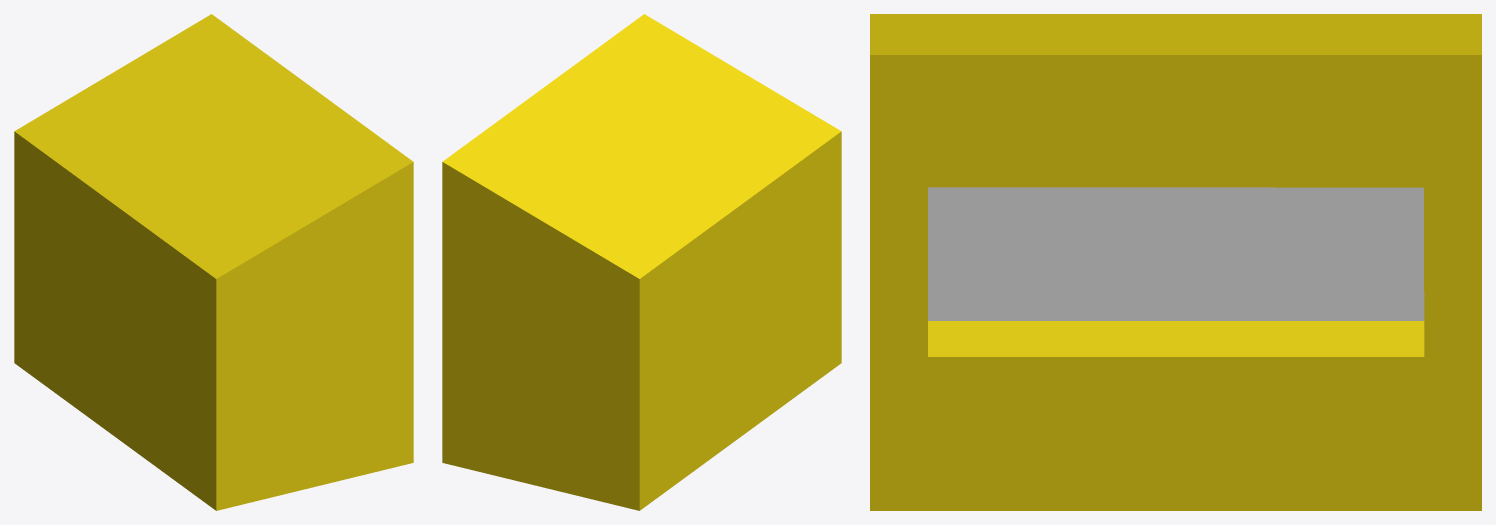
File: stall02_s03.FBX
3 views of the same model, side by side, from view 1: azimuth 30°, elevation 25°; view 2: azimuth 150°, elevation 25°; view 3: azimuth 270°, elevation 25° (orthographic). The views are drawn at different scales.
Parts seen in each view (by area): view 1: stall02_s03; view 2: stall02_s03; view 3: stall02_s03.
Part boxes in pixels (left/top/right/bottom): stall02_s03: left=14, top=14, right=413, bottom=510; stall02_s03: left=442, top=14, right=841, bottom=510; stall02_s03: left=870, top=14, right=1481, bottom=510.
Bounding box in the file's own units: 175 × 310 × 255.
1 material, 1 textured.
